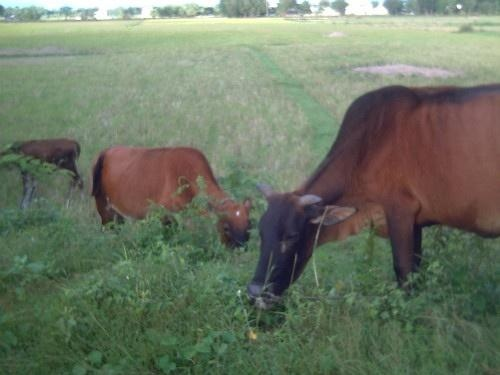cow: (249, 85, 500, 330), (91, 146, 256, 255), (1, 136, 87, 215)
